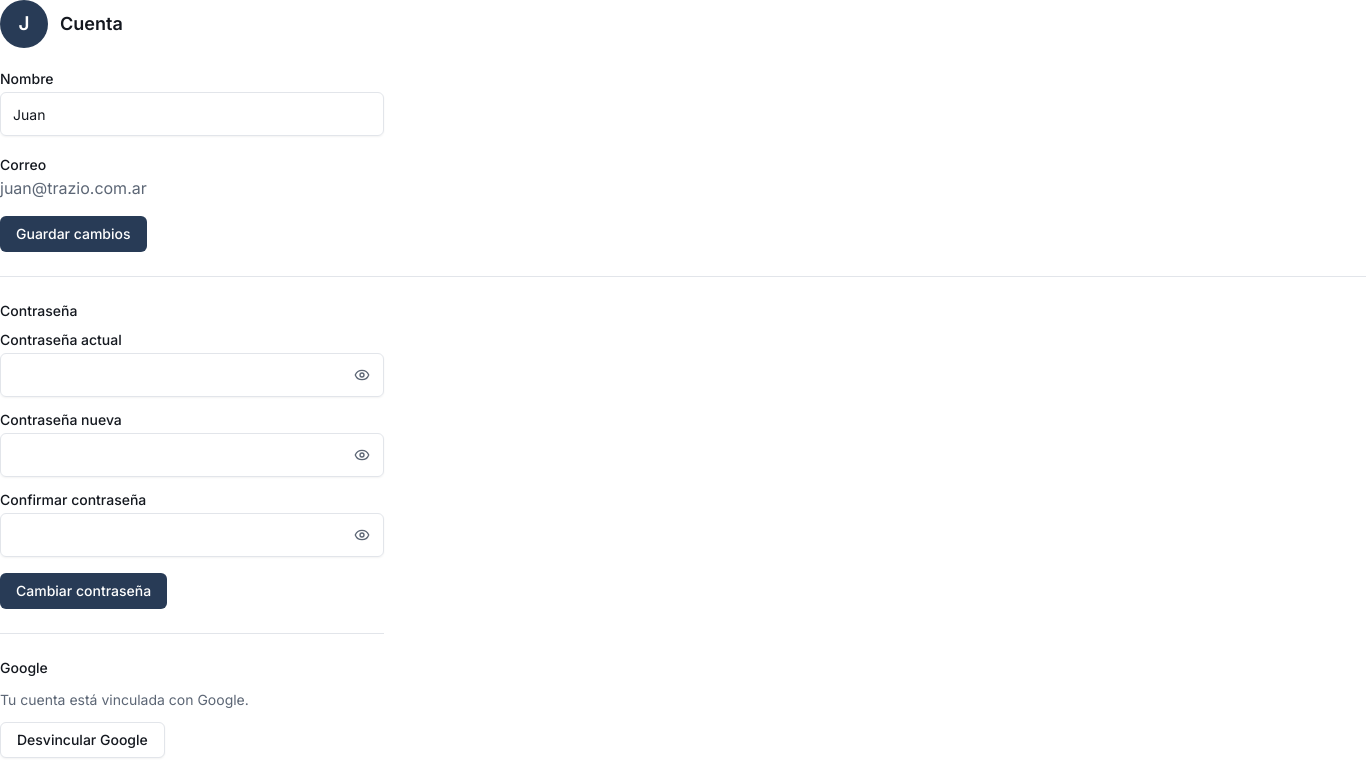
Test case: AccountSection (bloque 9.4) › si desvincular falla, muestra el error sin desvincular
Step 1. Click the button "Desvincular Google" → (82, 740), box [0,722,165,758]
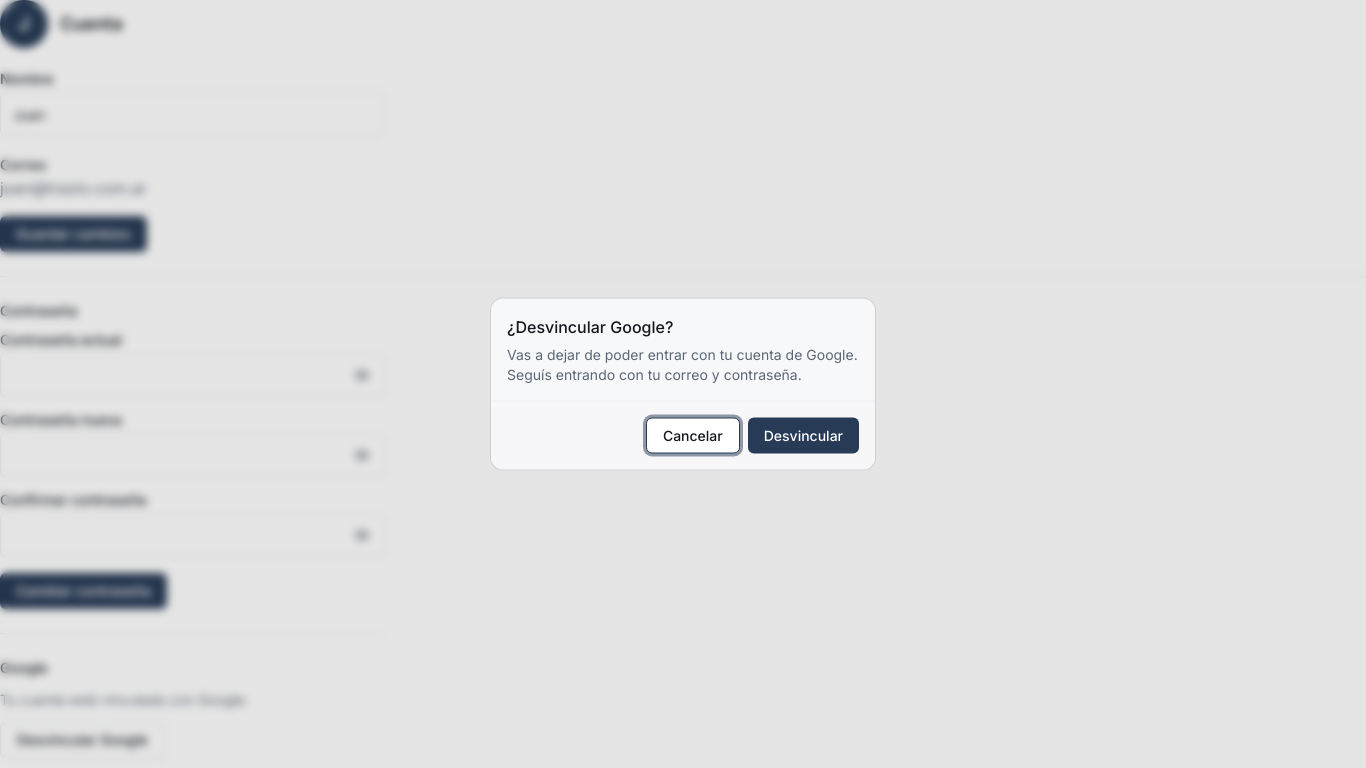
Expected: the dialog is shown, [491,298,875,470]
Step 2. Click the button "Desvincular" → (803, 436), box [748,418,859,454]
(page scrolled)
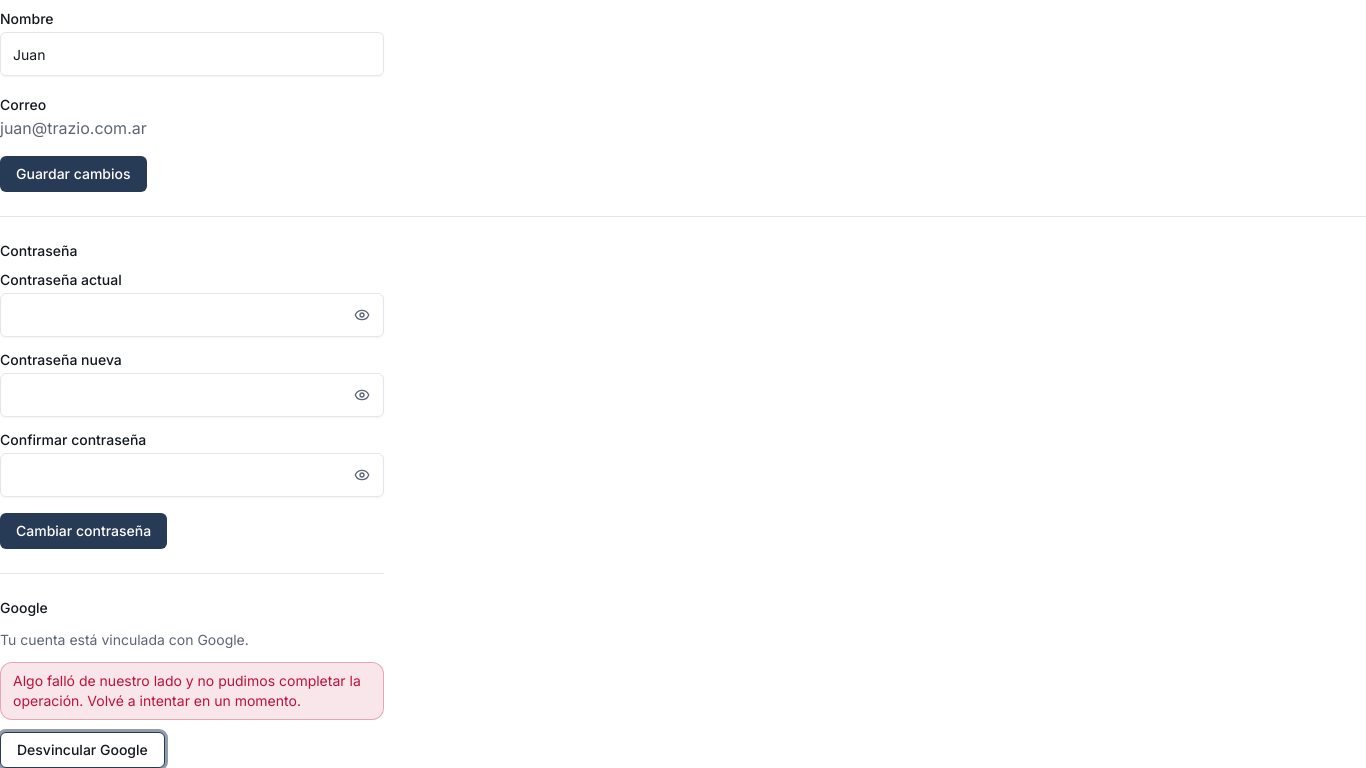
Expected: the message is shown, [0,662,384,720]
